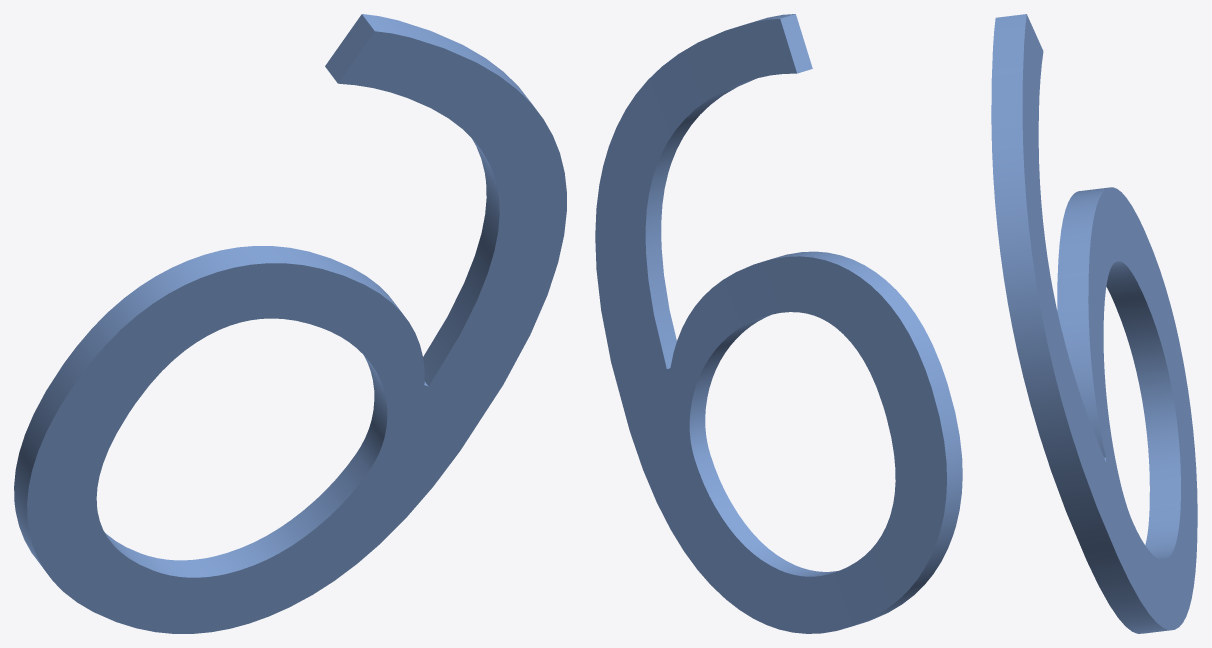
The model's file is New_Number_6.gltf.
3 renders of one model, left to right at view 1: azimuth 30°, elevation 25°; view 2: azimuth 150°, elevation 25°; view 3: azimuth 270°, elevation 25°, orthographic. The views are drawn at different scales.
Visible parts, largest first — view 1: Part 456; view 2: Part 456; view 3: Part 456.
Part boxes in pixels (box(x1,y1,x2,y2)): Part 456: box(14, 14, 566, 633); Part 456: box(595, 14, 962, 633); Part 456: box(991, 14, 1197, 633).
Size of the model in its own units: 0.00436 by 0.00564 by 0.00165.
